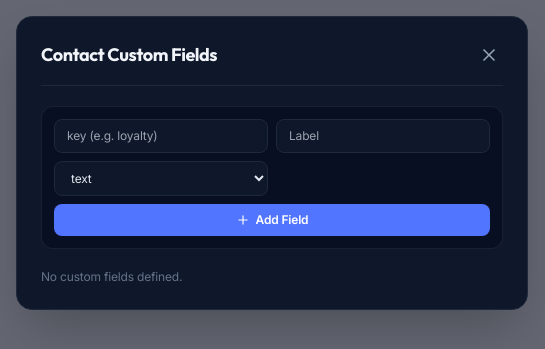
CustomFieldsManager (admin builder) › shows the options editor only for select/multiselect
Expected: the field with placeholder "comma,options" is not shown
Select "select" in the dropdown: coordinates (161, 178) top-left (54, 161), bottom-right (268, 196)
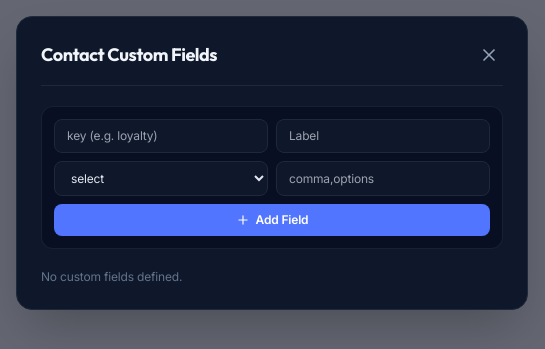
Expected: the field with placeholder "comma,options" is shown, top-left (276, 161), bottom-right (490, 196)
Select "multiselect" in the dropdown: coordinates (161, 178) top-left (54, 161), bottom-right (268, 196)
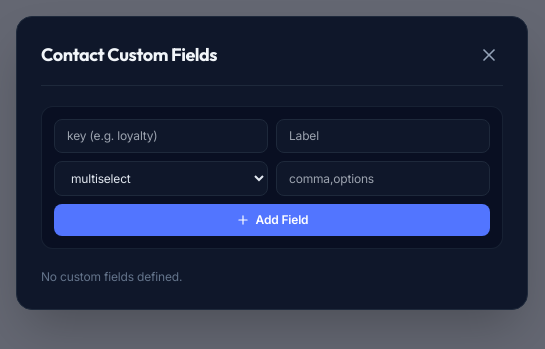
Expected: the field with placeholder "comma,options" is shown, top-left (276, 161), bottom-right (490, 196)
Select "boolean" in the dropdown: coordinates (161, 178) top-left (54, 161), bottom-right (268, 196)
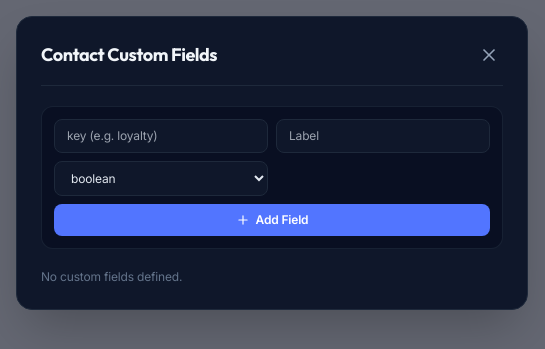
Expected: the field with placeholder "comma,options" is gone
